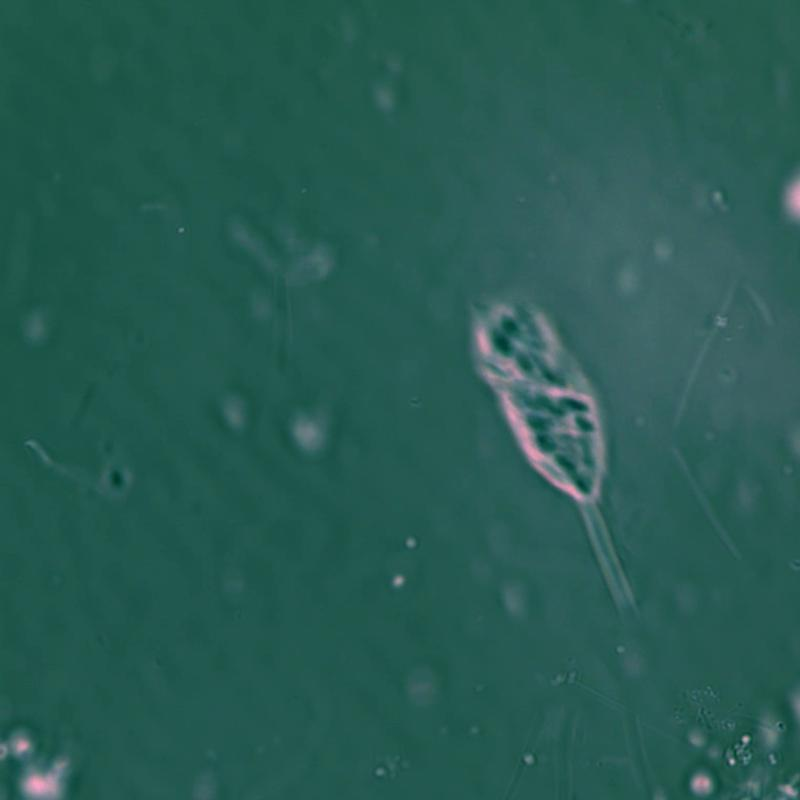depth:40: (453, 272, 678, 644)
